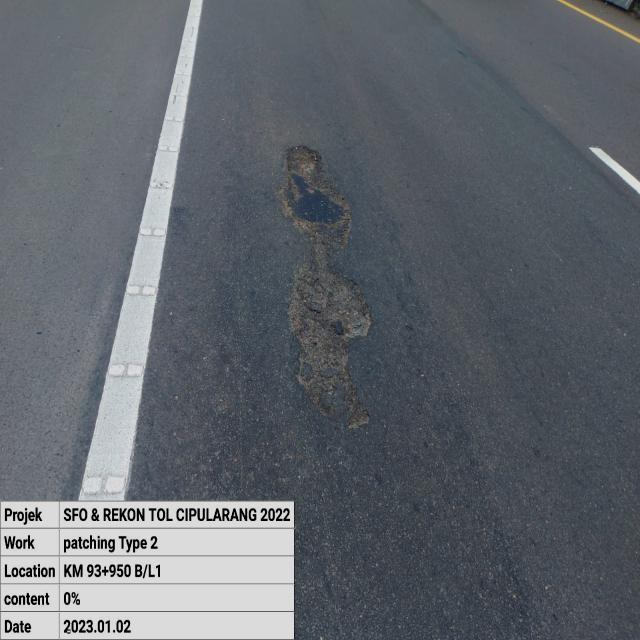Buraco: (269, 142, 381, 434)
